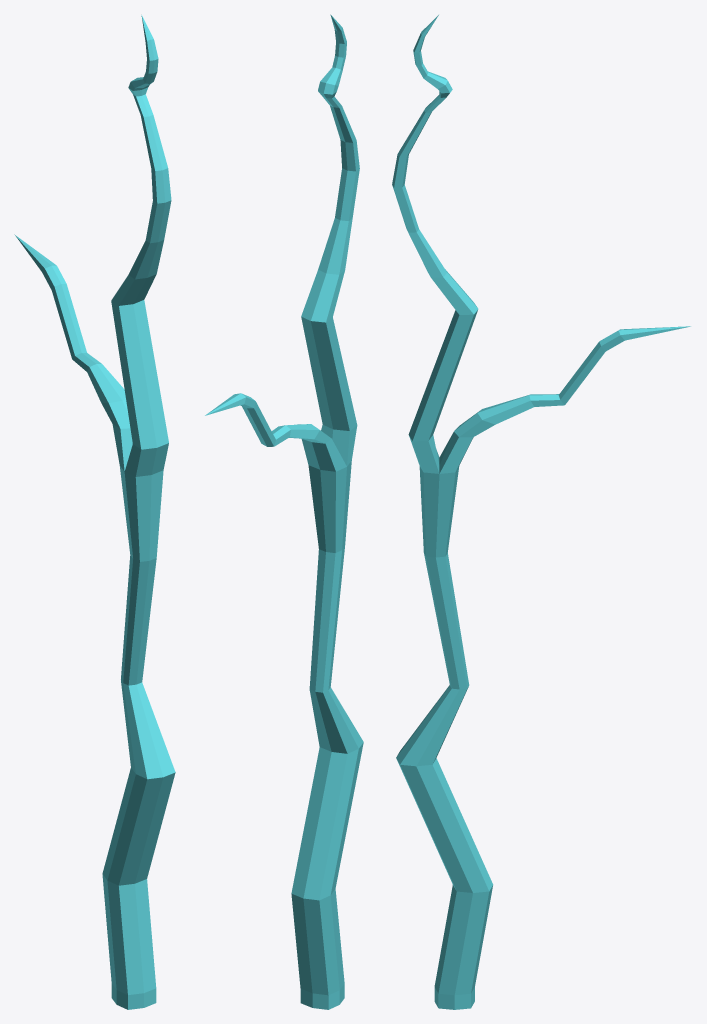
File: StormvineStage3.fbx
The picture shows the model from 3 angles, left to right: view 1: azimuth 30°, elevation 25°; view 2: azimuth 150°, elevation 25°; view 3: azimuth 270°, elevation 25°; orthographic projection.
Visible parts, largest first — view 1: Cube.001; view 2: Cube.001; view 3: Cube.001.
Part boxes in pixels (left/top/right/bottom): Cube.001: left=14, top=15, right=175, bottom=1009; Cube.001: left=205, top=14, right=363, bottom=1009; Cube.001: left=392, top=15, right=690, bottom=1009.
Bounding box in the file's own units: 6.91 × 189 × 52.23.
